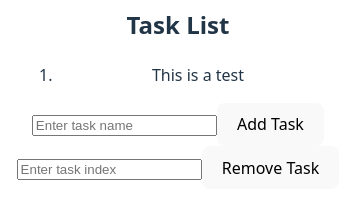
Test: Remove Task › should remove a task and not display it
This screenshot has width=356, height=206.
Type "1" into the number field with test id "removeTaskForm".
click(109, 169); type("1")  # box [17,158,202,180]
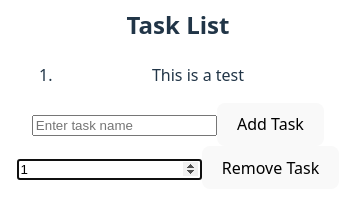
Click the button with test id "removeTask".
click(270, 168)  # box [202,146,339,189]
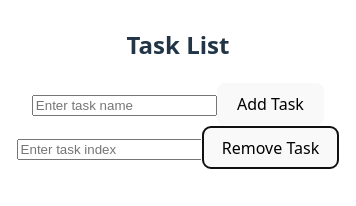
Now the list item "This is a test" is gone
